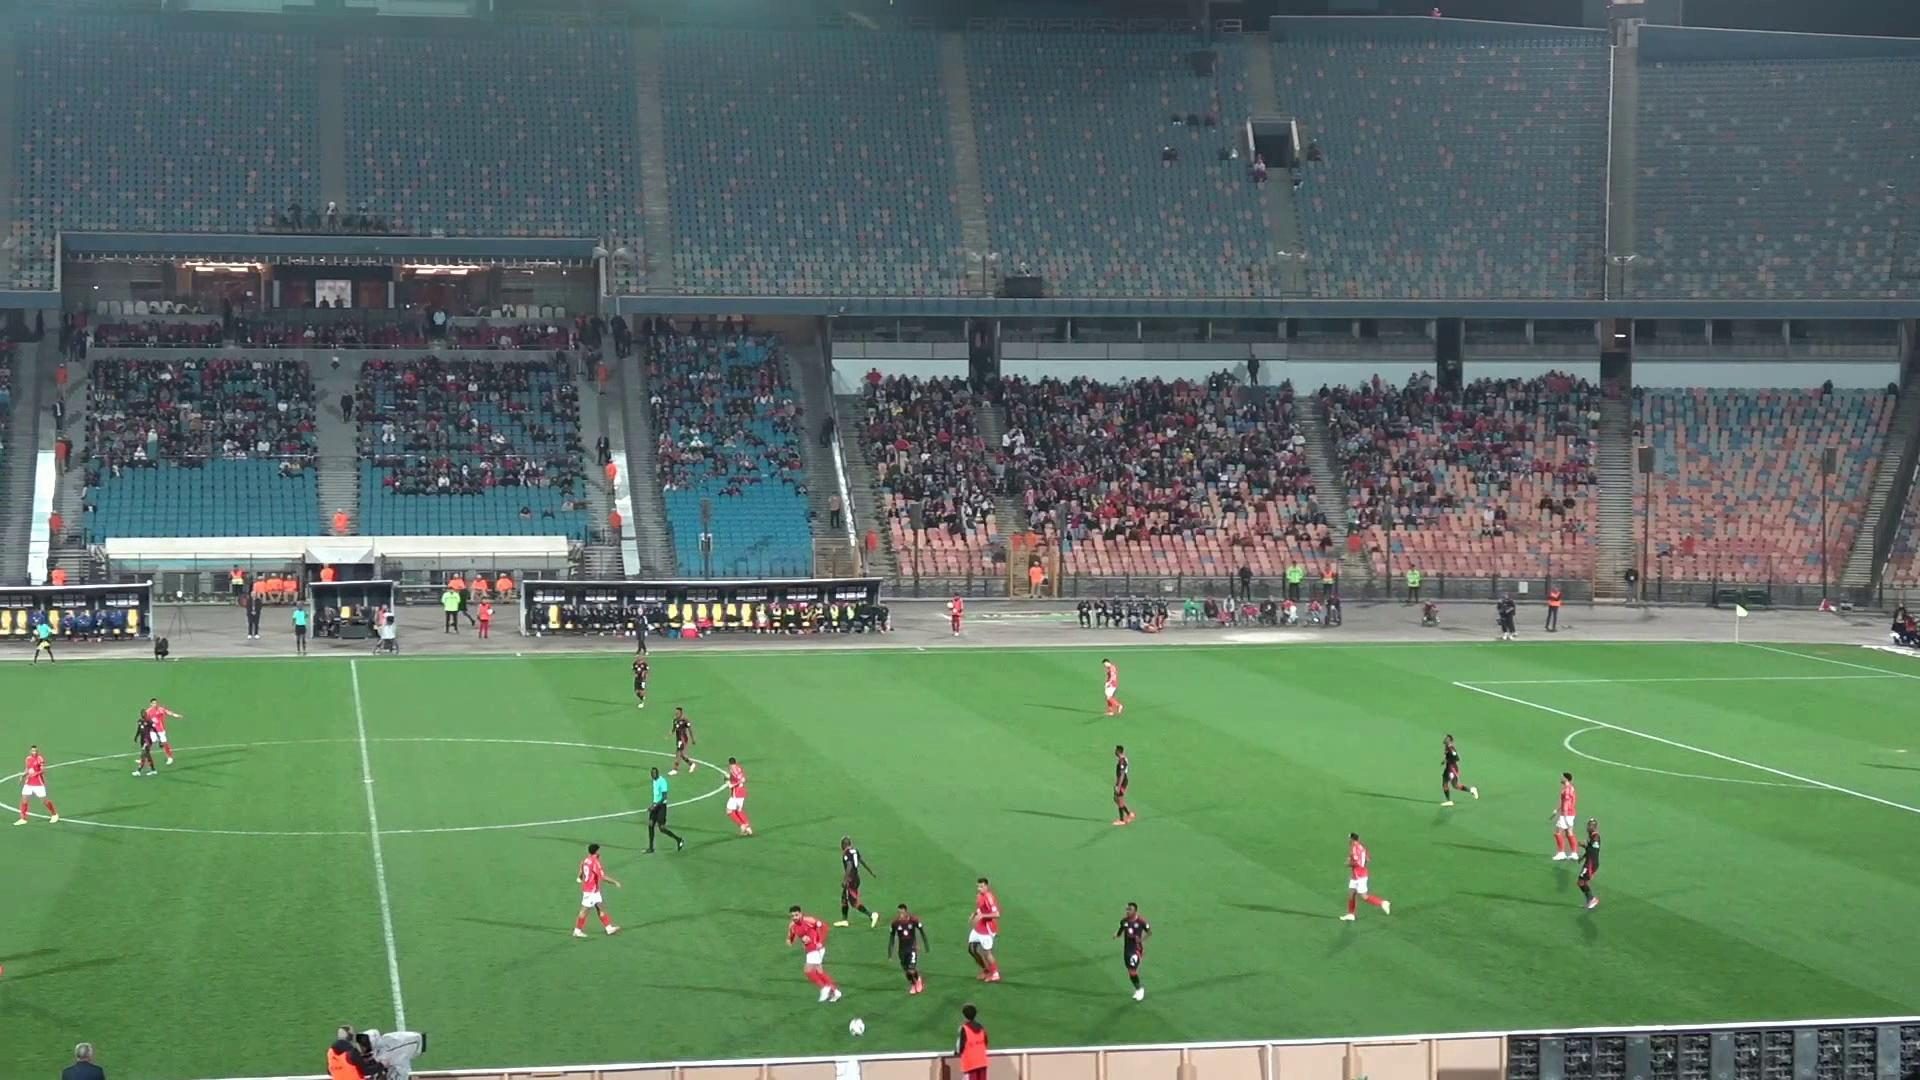Ball: (848, 1017, 866, 1038)
Refree: (644, 767, 684, 852), (293, 603, 311, 654)
Team1: (786, 906, 841, 1001), (572, 844, 620, 936), (1340, 833, 1390, 920), (967, 878, 1000, 981), (17, 746, 58, 823), (142, 698, 183, 764), (1552, 773, 1578, 861), (725, 757, 753, 835), (32, 609, 55, 661), (1102, 658, 1122, 715)
Team2: (837, 837, 878, 926), (887, 905, 927, 993), (1116, 902, 1150, 1001), (1440, 735, 1477, 804), (1576, 819, 1601, 909), (135, 699, 162, 774), (1112, 745, 1135, 825), (671, 705, 696, 770), (632, 649, 647, 708)
